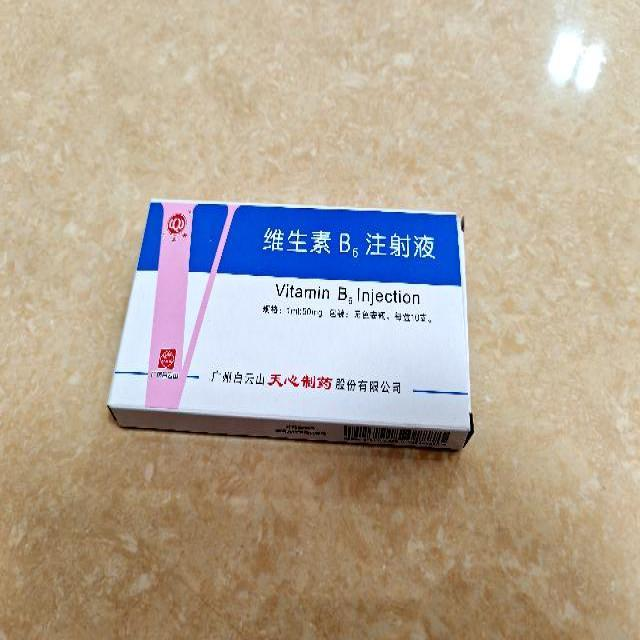box: (106, 196, 474, 448)
